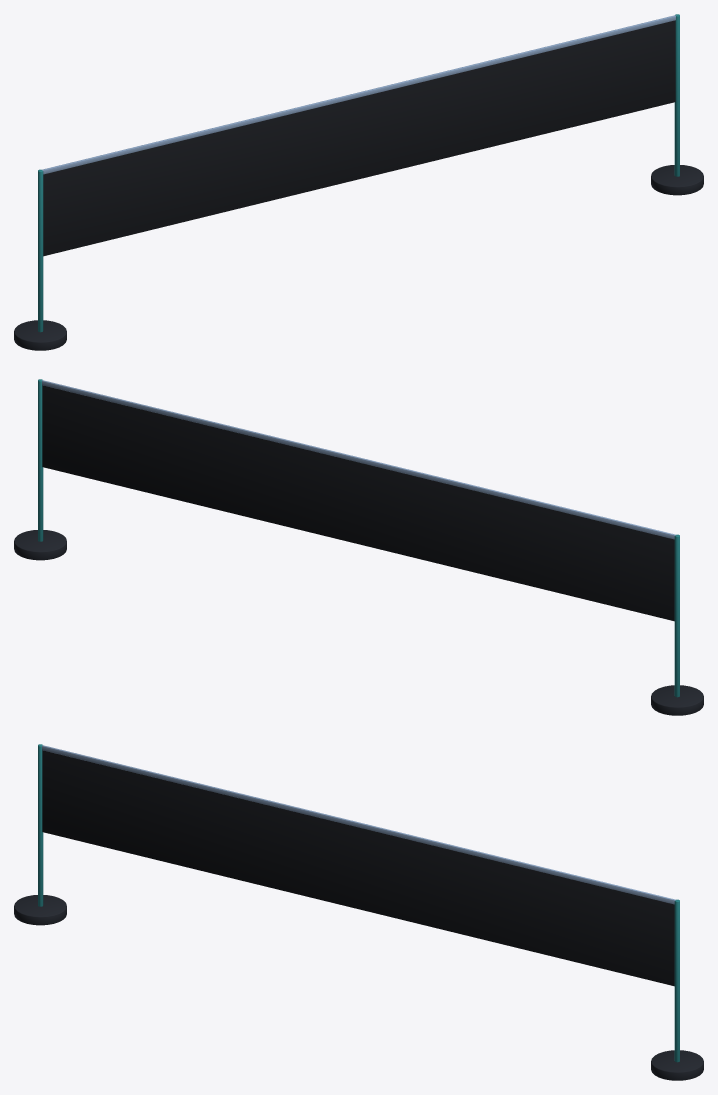
File: badminton-net-c024cfff202b.glb
The picture shows the model from 3 angles, top to bottom: view 1: azimuth 30°, elevation 25°; view 2: azimuth 150°, elevation 25°; view 3: azimuth 330°, elevation 25°; orthographic projection.
Parts seen in each view (by area): view 1: Net_Mesh, Top_Tape, Mesh_Wrought_Iron, Mesh_Echo_Whale_Teal; view 2: Net_Mesh, Top_Tape, Mesh_Wrought_Iron, Mesh_Echo_Whale_Teal; view 3: Net_Mesh, Top_Tape, Mesh_Wrought_Iron, Mesh_Echo_Whale_Teal.
Part boxes in pixels (x1,y1,x2,y2): Net_Mesh: (43,20,675,256); Top_Tape: (42,15,676,174); Mesh_Wrought_Iron: (14,165,703,350); Mesh_Echo_Whale_Teal: (38,14,679,332); Net_Mesh: (42,385,674,621); Top_Tape: (41,380,675,539); Mesh_Wrought_Iron: (14,530,703,715); Mesh_Echo_Whale_Teal: (38,379,679,697); Net_Mesh: (42,750,674,986); Top_Tape: (42,745,675,904); Mesh_Wrought_Iron: (14,895,703,1080); Mesh_Echo_Whale_Teal: (38,744,679,1062).
Size of the model in its own units: 6.54 by 1.55 by 0.44.
4 materials, 1 textured.
